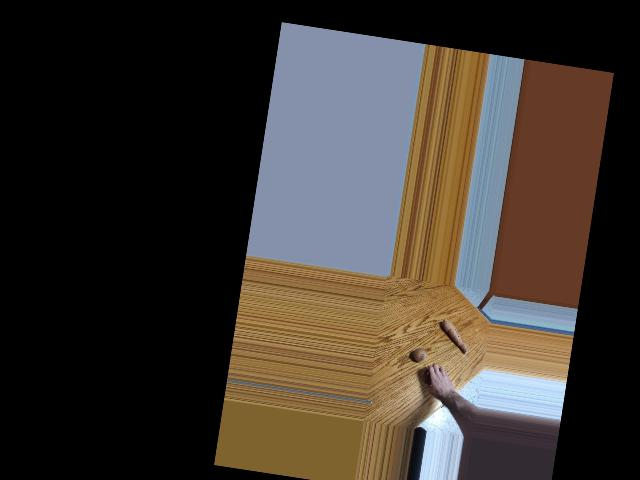onion: (422, 368, 440, 387)
